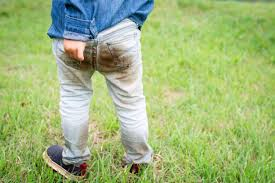earth: (86, 50, 128, 71)
